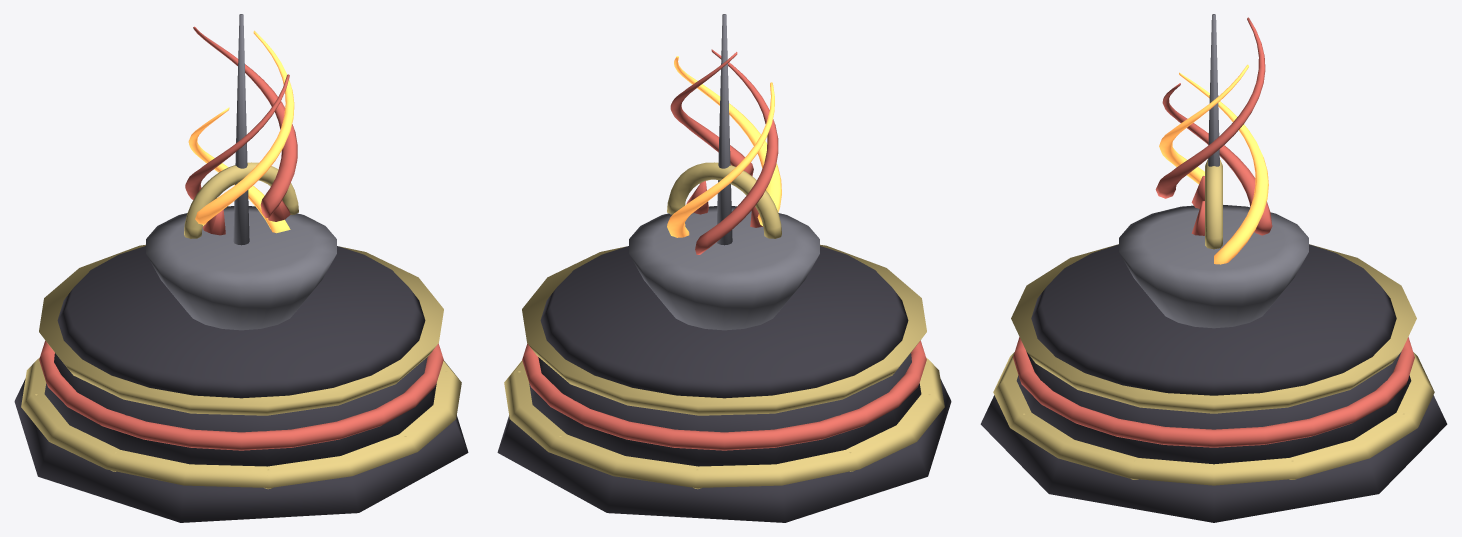
3 views of the same model, side by side, from view 1: azimuth 30°, elevation 25°; view 2: azimuth 150°, elevation 25°; view 3: azimuth 270°, elevation 25° (orthographic).
Parts seen in each view (by area): view 1: CA-002_Tybalt; view 2: CA-002_Tybalt; view 3: CA-002_Tybalt.
Boxes of the visible parts, x1,y1,x2,y2 form: CA-002_Tybalt: (14, 14, 468, 522); CA-002_Tybalt: (497, 14, 951, 522); CA-002_Tybalt: (980, 14, 1447, 522).
Size of the model in its own units: 0.92 by 0.89 by 0.92.
